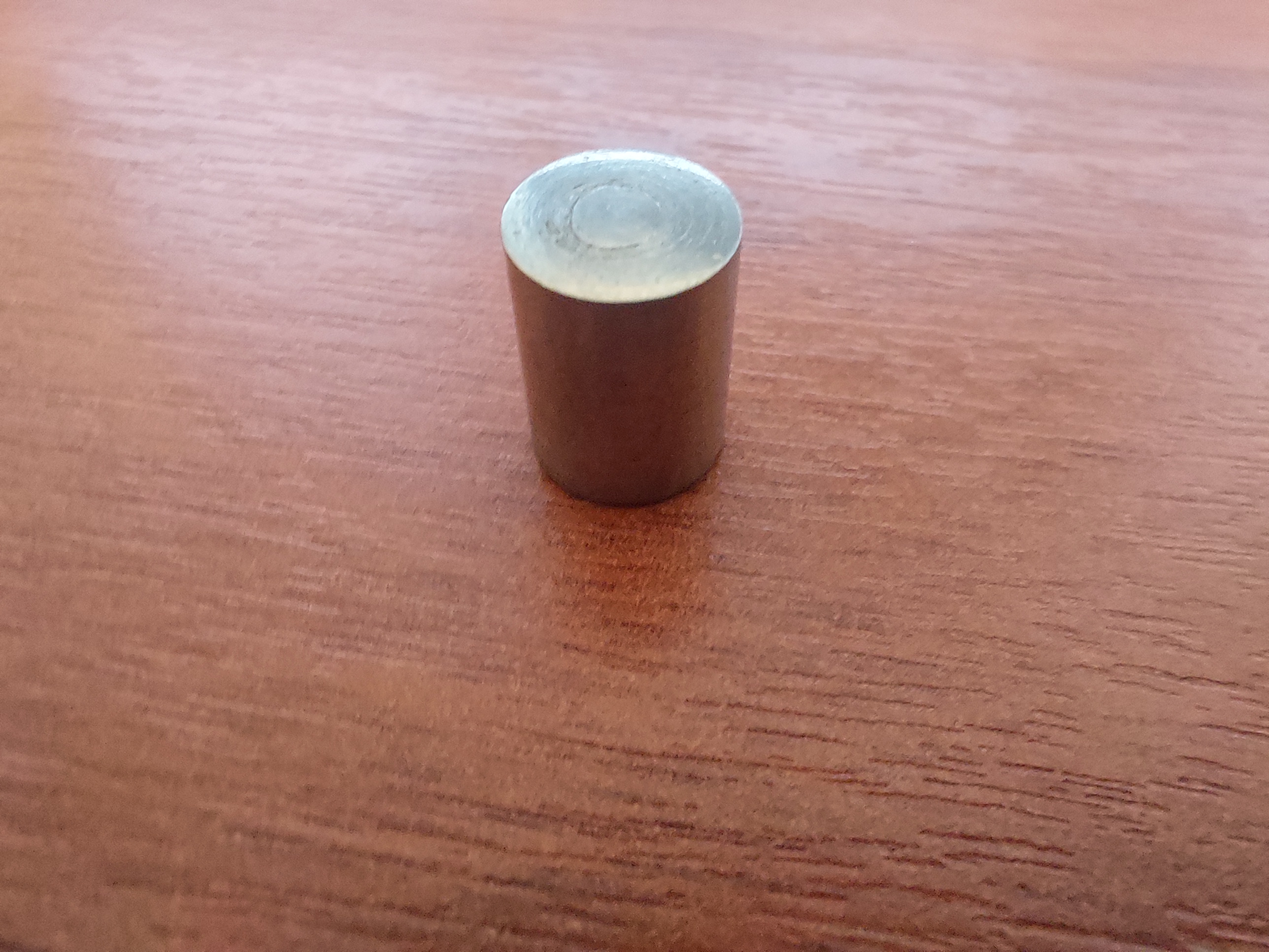tablet: (460, 130, 825, 523)
